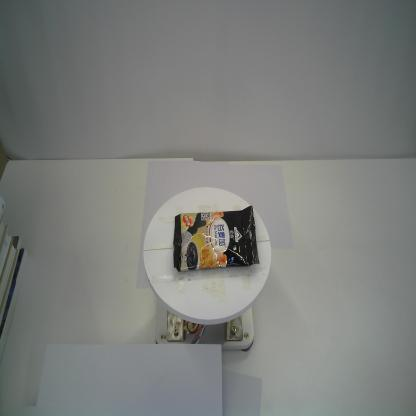Instant Drink: (173, 205, 260, 272)
